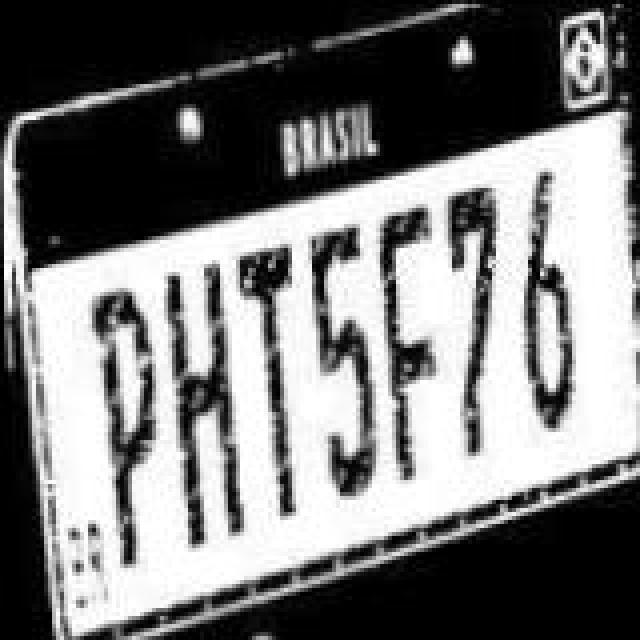5: (302, 214, 382, 502)
6: (506, 158, 574, 434)
7: (434, 182, 510, 458)
F: (368, 196, 448, 484)
H: (152, 258, 244, 554)
P: (70, 276, 162, 572)
T: (226, 230, 314, 522)
